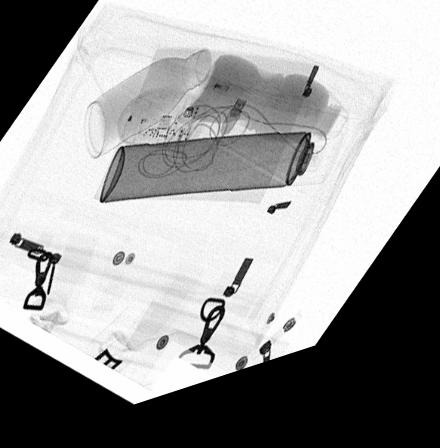Sprayer: (99, 148, 343, 208)
